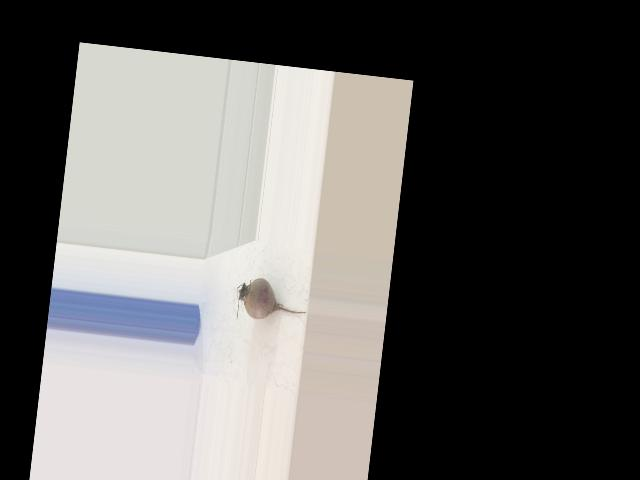beet: (233, 276, 309, 328)
